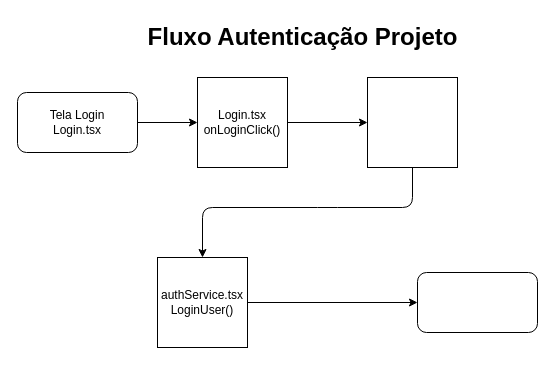
This 555x365 diagram has some shape labels left out. The shapes that lost their labels are listed below. From the top down, each one's centre as x and y in pixels, then its label:
point (412, 122): auth.tsx SignIn
point (477, 302): Tela Home Home.tsx
